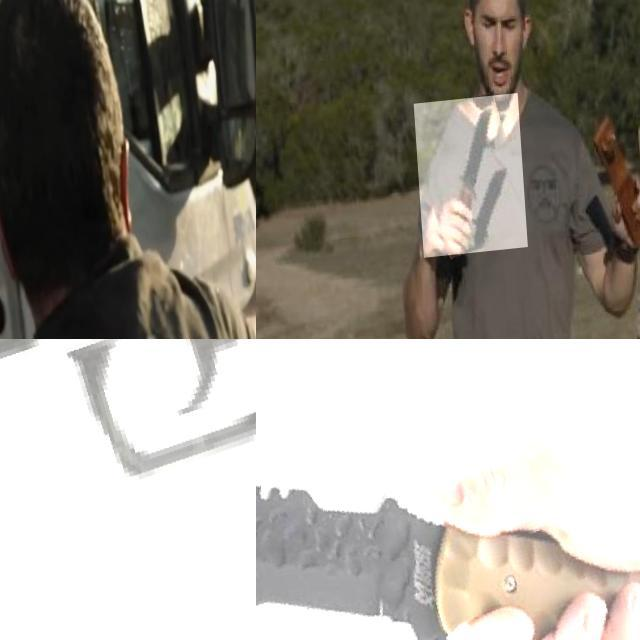-: (256, 339, 640, 640), (412, 100, 524, 262)
gun-knife-thesis - v11 Yolov5 augmented: (0, 339, 256, 640)
